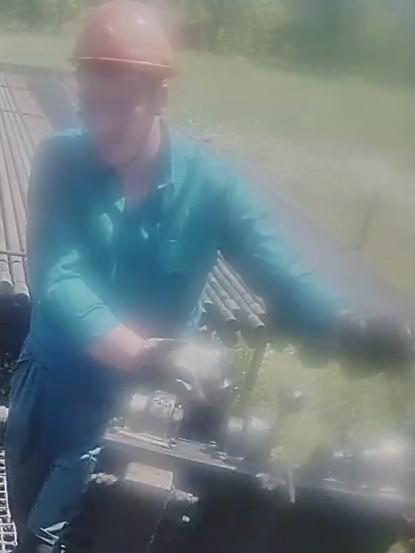gloves: (133, 335, 232, 412), (317, 305, 414, 373)
helmet: (68, 2, 178, 76)
vest: (26, 131, 243, 387)
